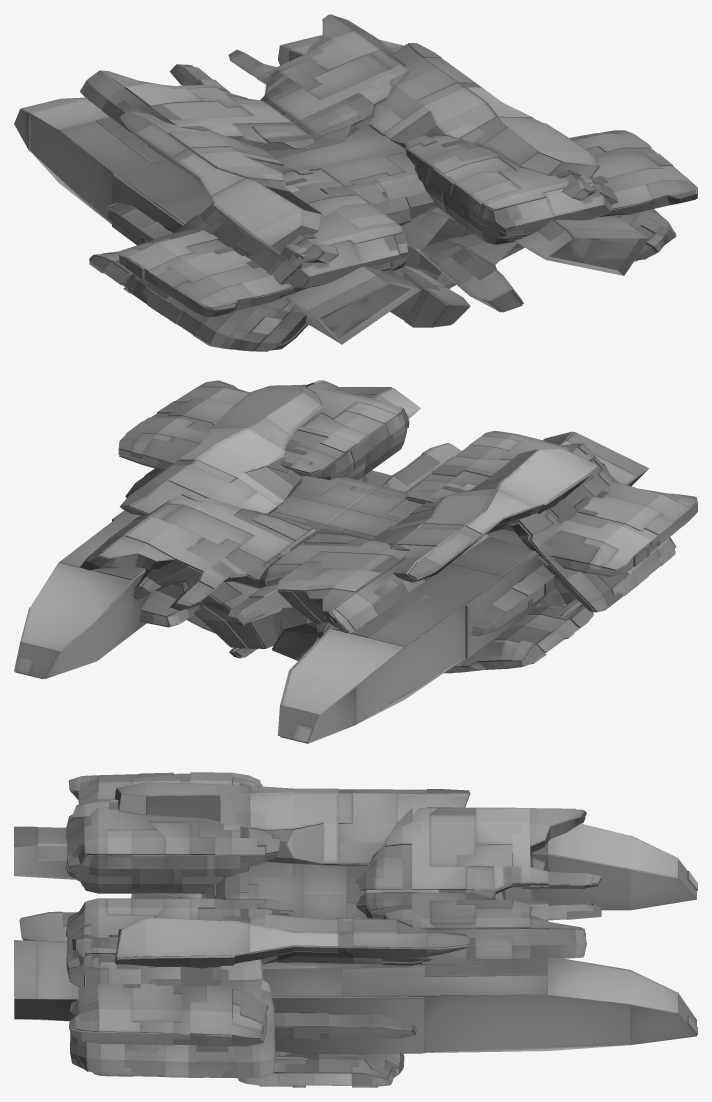
Rendered from Frigate_001.fbx.
The picture shows the model from 3 angles, top to bottom: view 1: azimuth 30°, elevation 25°; view 2: azimuth 150°, elevation 25°; view 3: azimuth 270°, elevation 25°; orthographic projection. The views are drawn at different scales.
Visible parts, largest first — view 1: Frigate_001; view 2: Frigate_001; view 3: Frigate_001.
Part boxes in pixels (x1=…): Frigate_001: x1=14, y1=14, x2=697, y2=351; Frigate_001: x1=14, y1=380, x2=697, y2=743; Frigate_001: x1=14, y1=772, x2=697, y2=1087.
Size of the model in its own units: 25.17 by 6.93 by 27.56.
